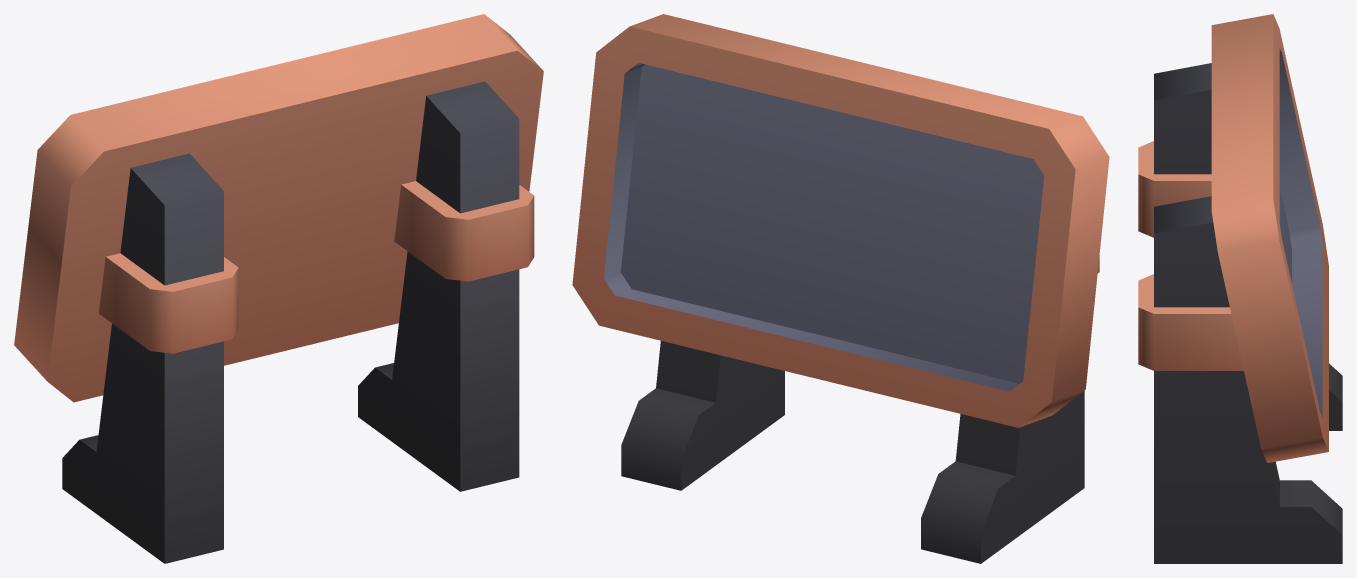
File: screen-wide.obj
3 views of the same model, side by side, from view 1: azimuth 30°, elevation 25°; view 2: azimuth 150°, elevation 25°; view 3: azimuth 270°, elevation 25° (orthographic). The views are drawn at different scales.
Parts seen in each view (by area): view 1: screen-wide; view 2: screen-wide; view 3: screen-wide.
Boxes of the visible parts, box(x1,y1,x2,y2) form: screen-wide: box(14, 14, 543, 563); screen-wide: box(572, 14, 1109, 563); screen-wide: box(1138, 14, 1342, 563).
Size of the model in its own units: 1.2 by 0.9913 by 0.4875.
